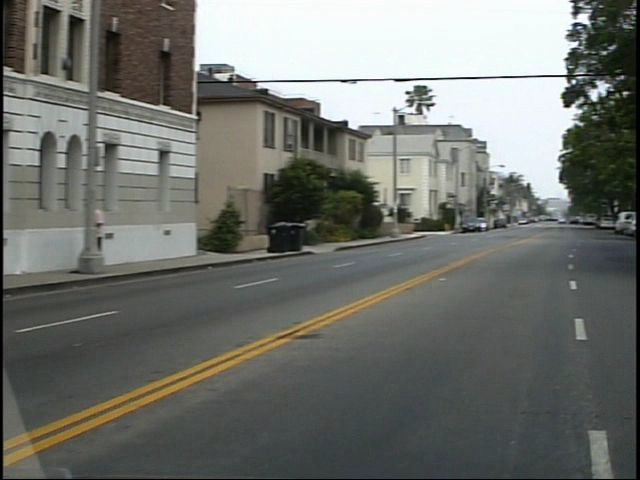person: (94, 196, 129, 273)
